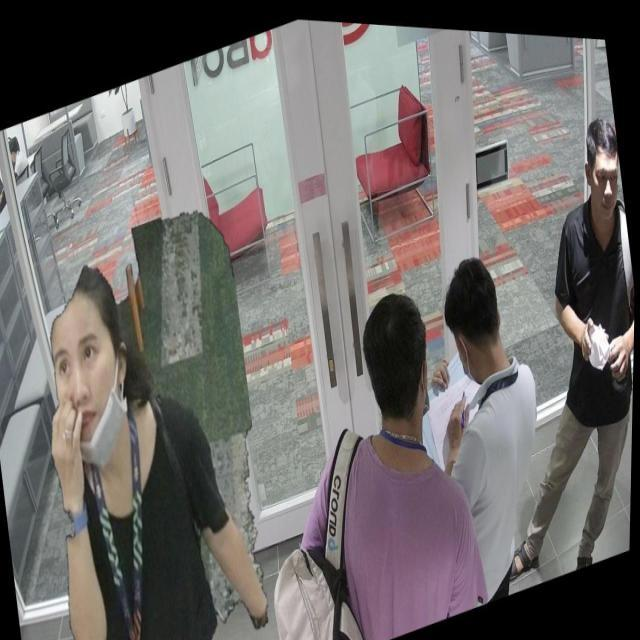hairnet: (52, 317, 134, 480)
